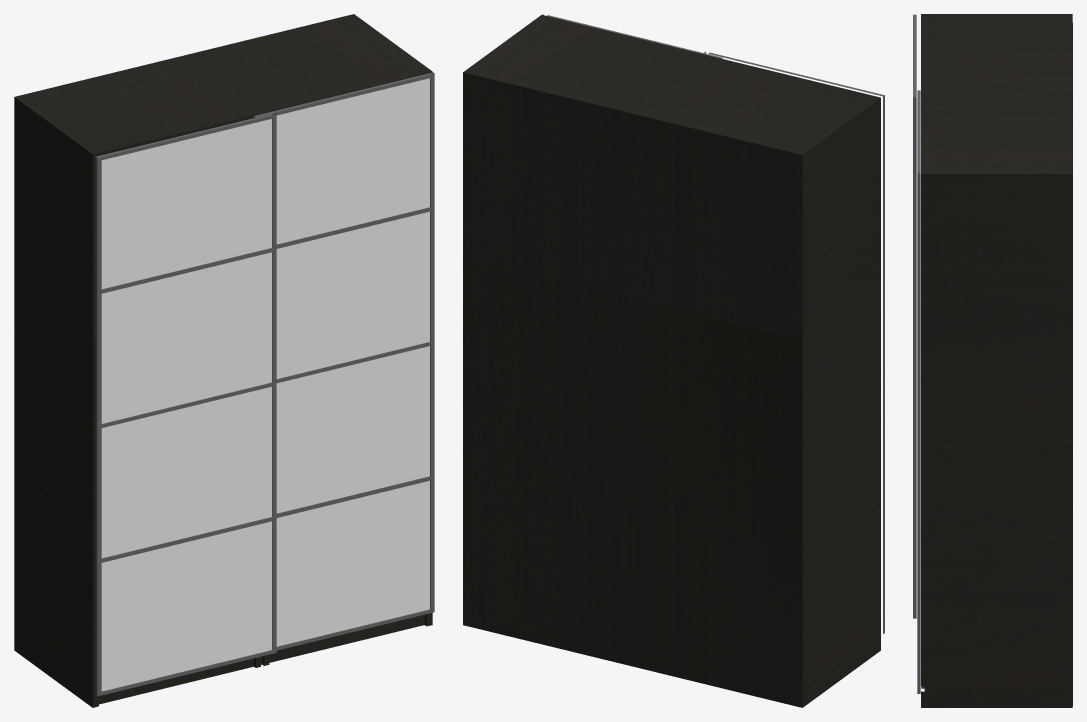
Rendered from sweethome3d-blendswap-cc-0-wardrobe-67.glb.
3 renders of one model, left to right at view 1: azimuth 30°, elevation 25°; view 2: azimuth 150°, elevation 25°; view 3: azimuth 270°, elevation 25°, orthographic. The views are drawn at different scales.
Visible parts, largest first — view 1: Door.001_Plane.006, Door.000_Plane.003, Box_Plane; view 2: Box_Plane, Door.001_Plane.006; view 3: Box_Plane, Door.001_Plane.006, Door.000_Plane.003.
Part boxes in pixels (x1=…): Door.001_Plane.006: x1=95, y1=113, x2=276, y2=696; Door.000_Plane.003: x1=253, y1=72, x2=434, y2=650; Box_Plane: x1=14, y1=14, x2=432, y2=707; Box_Plane: x1=463, y1=15, x2=880, y2=707; Door.001_Plane.006: x1=704, y1=51, x2=884, y2=633; Box_Plane: x1=921, y1=14, x2=1072, y2=707; Door.001_Plane.006: x1=913, y1=14, x2=916, y2=618; Door.000_Plane.003: x1=917, y1=90, x2=920, y2=693.
Size of the model in its own units: 152 by 236 by 64.11.
Materials: 5 (1 with a texture image).
